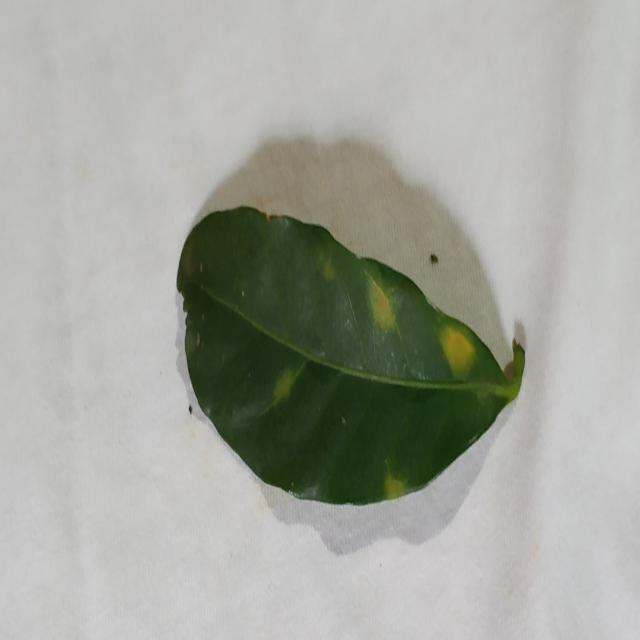Enfermedad-Roya: (175, 206, 527, 508)
